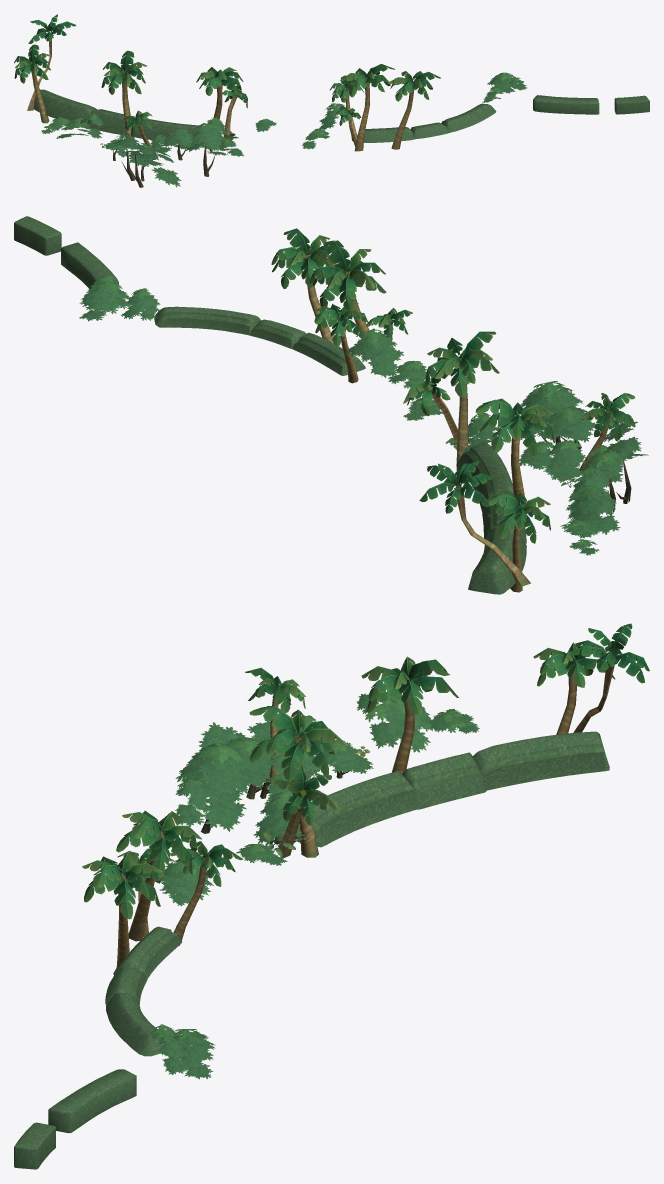
Rendered from pref_sm_4v4pointbake_WSJ_CSD_R01_lv1.fbx.
3 views of the same model, one above another, from view 1: azimuth 30°, elevation 25°; view 2: azimuth 150°, elevation 25°; view 3: azimuth 270°, elevation 25° (orthographic). The views are drawn at different scales.
Parts seen in each view (by area): view 1: sm_4v4pointbake_WSJ_CSD_R01_a_lv1, sm_4v4pointbake_WSJ_CSD_R01_b_lv1; view 2: sm_4v4pointbake_WSJ_CSD_R01_a_lv1, sm_4v4pointbake_WSJ_CSD_R01_b_lv1; view 3: sm_4v4pointbake_WSJ_CSD_R01_a_lv1, sm_4v4pointbake_WSJ_CSD_R01_b_lv1.
Boxes of the visible parts, x1,y1,x2,y2 form: sm_4v4pointbake_WSJ_CSD_R01_a_lv1: (14,14,527,187); sm_4v4pointbake_WSJ_CSD_R01_b_lv1: (33,89,649,144); sm_4v4pointbake_WSJ_CSD_R01_a_lv1: (79,228,648,592); sm_4v4pointbake_WSJ_CSD_R01_b_lv1: (14,216,526,594); sm_4v4pointbake_WSJ_CSD_R01_a_lv1: (82,623,649,1079); sm_4v4pointbake_WSJ_CSD_R01_b_lv1: (14,731,609,1169).
Bounding box in the file's own units: 51.12 × 9.53 × 31.58.
